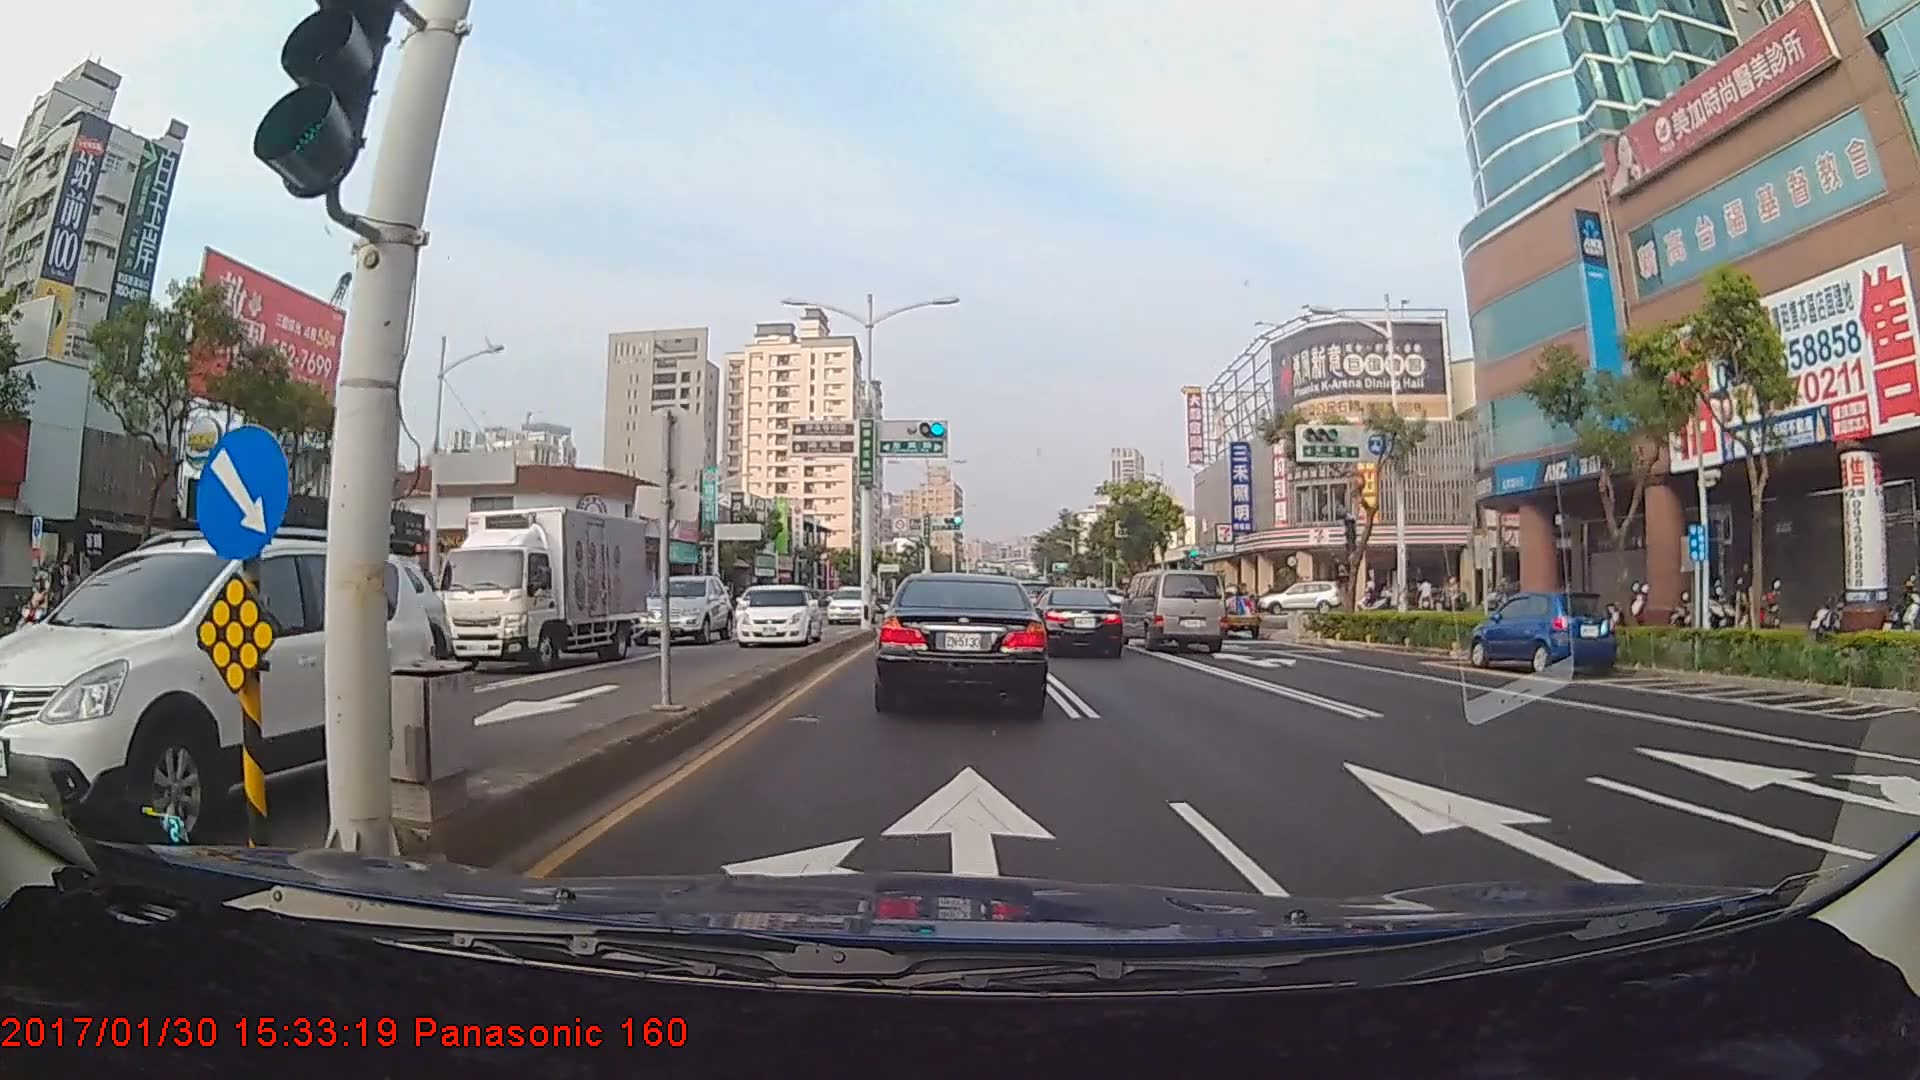vehicle: (16, 529, 439, 855), (433, 498, 647, 671), (878, 568, 1048, 713), (1468, 589, 1617, 675), (1124, 568, 1226, 654), (622, 568, 727, 642), (1031, 588, 1125, 657), (725, 578, 818, 646), (1259, 582, 1341, 616), (822, 580, 868, 622)
